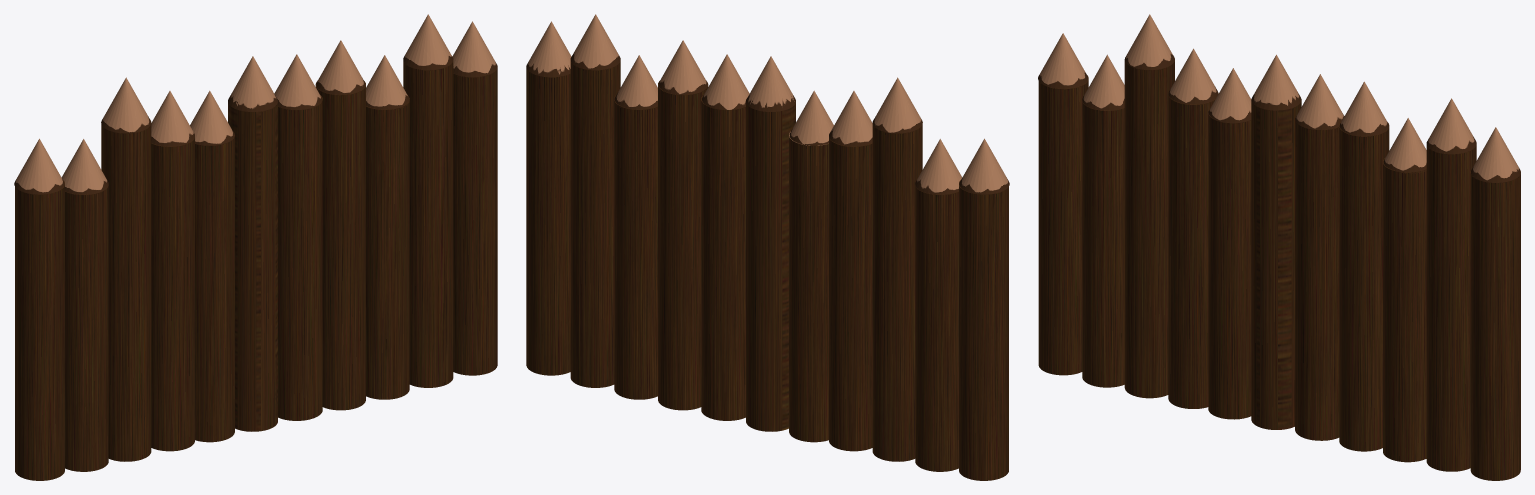
File: woodwall.fbx
The picture shows the model from 3 angles, left to right: view 1: azimuth 30°, elevation 25°; view 2: azimuth 150°, elevation 25°; view 3: azimuth 330°, elevation 25°; orthographic projection.
Parts seen in each view (by area): view 1: Cylinder; view 2: Cylinder; view 3: Cylinder.
Boxes of the visible parts, box(x1,y1,x2,y2) form: Cylinder: box(14, 14, 497, 480); Cylinder: box(526, 14, 1009, 480); Cylinder: box(1038, 14, 1520, 480).
Size of the model in its own units: 2187 by 1644 by 200.
